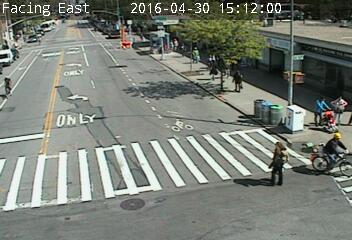neg: (20, 110, 57, 159), (104, 104, 136, 146), (63, 66, 91, 103), (64, 22, 88, 54), (238, 122, 261, 154), (200, 139, 223, 171), (176, 86, 199, 116), (160, 147, 181, 175), (36, 186, 56, 213), (78, 183, 97, 209), (300, 32, 318, 56), (121, 174, 139, 198), (7, 9, 24, 32), (134, 51, 151, 73), (267, 36, 284, 58), (100, 61, 116, 83), (92, 31, 106, 49), (9, 83, 22, 100), (335, 54, 348, 70), (10, 51, 20, 65), (125, 36, 135, 49), (28, 3, 36, 14), (72, 2, 79, 12), (40, 9, 45, 16)
pos: (258, 136, 302, 194), (310, 93, 335, 126), (327, 91, 351, 123), (229, 67, 247, 92), (202, 51, 219, 73), (189, 44, 205, 66), (34, 34, 46, 50), (170, 36, 181, 52)
